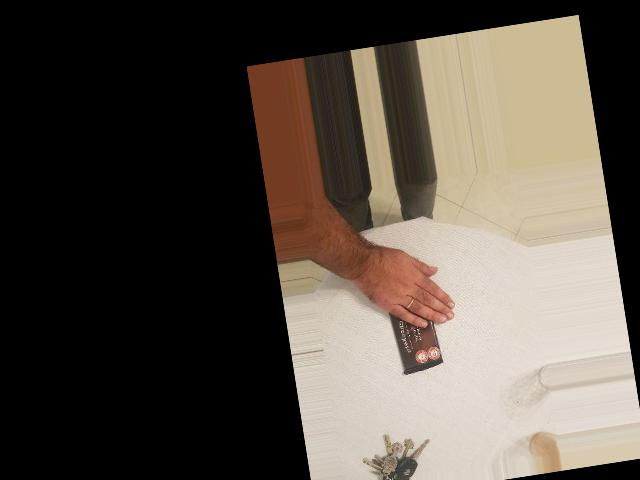chocolate: (377, 261, 450, 380)
